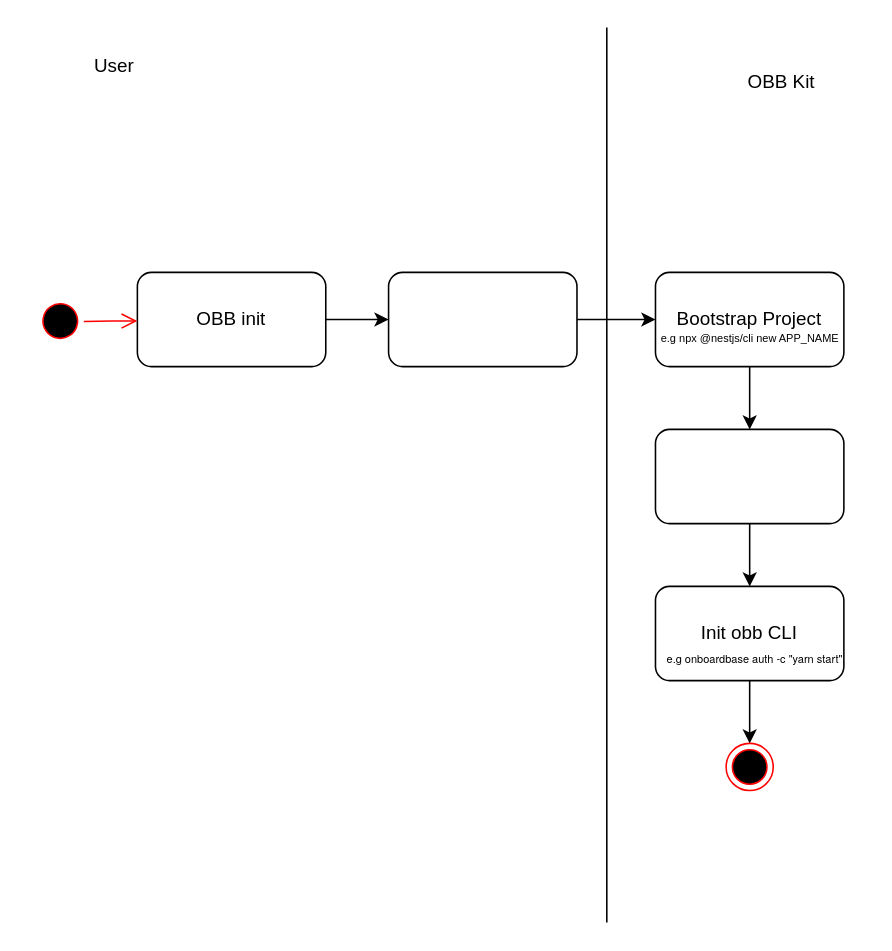
Some shapes in this 892 by 951 pixel diagram are drawn without their labels. The centre of each missing label's shape, as x and y in pixels:
Open Project Folder: the point at 749,476
Select Project Type and Name: the point at 482,319
